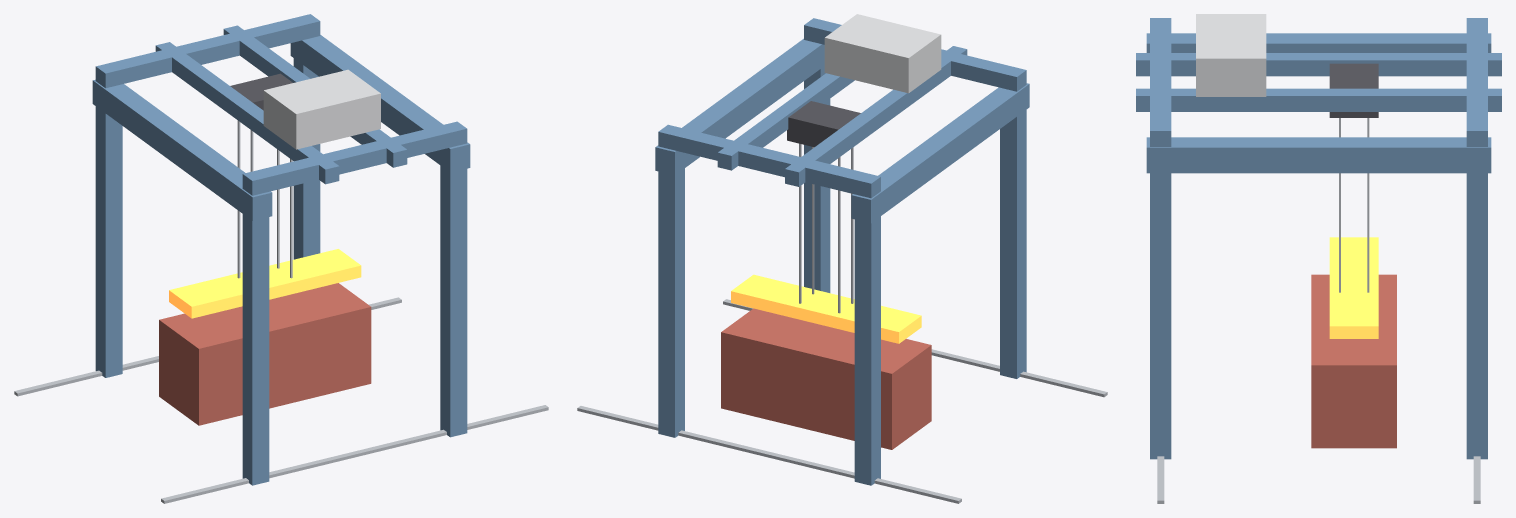
The model's file is wing-robot-hall-port-crane.glb.
3 renders of one model, left to right at view 1: azimuth 30°, elevation 25°; view 2: azimuth 150°, elevation 25°; view 3: azimuth 270°, elevation 25°, orthographic. The views are drawn at different scales.
Parts seen in each view (by area): view 1: Robot · container gantry crane; view 2: Robot · container gantry crane; view 3: Robot · container gantry crane.
Part boxes in pixels (x1,y1,x2,y2): Robot · container gantry crane: (14,14,548,503); Robot · container gantry crane: (577,14,1107,503); Robot · container gantry crane: (1136,14,1501,503).
Bounding box in the file's own units: 13.6 × 11.5 × 10.4.
